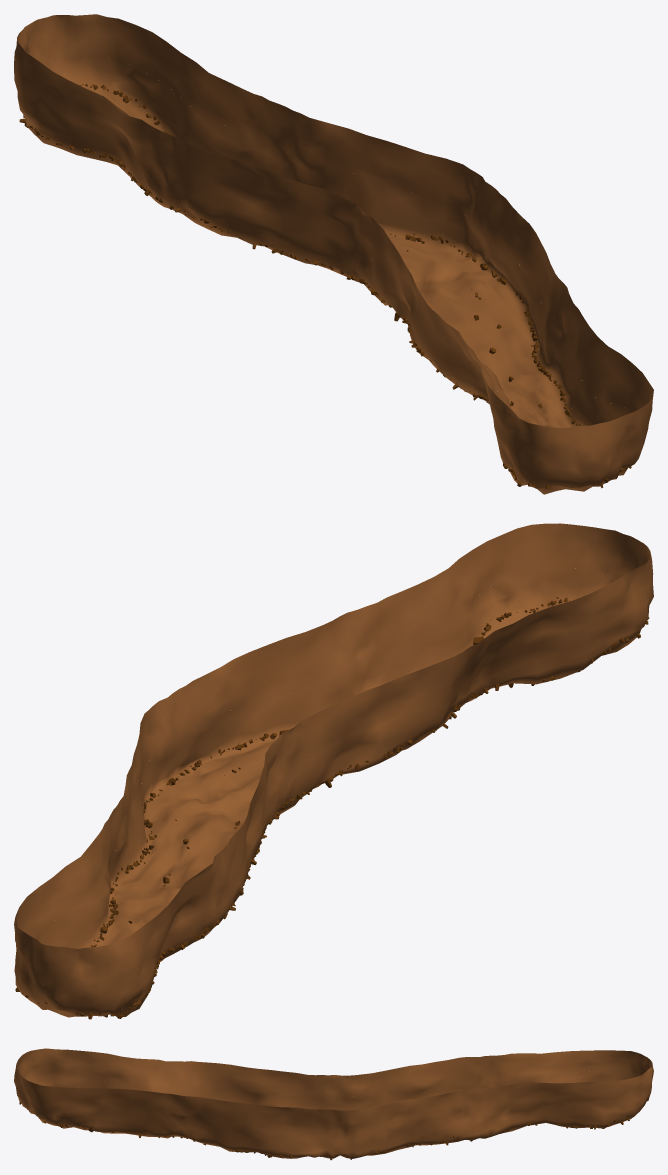
Rendered from cave fixed.fbx.
3 views of the same model, one above another, from view 1: azimuth 30°, elevation 25°; view 2: azimuth 150°, elevation 25°; view 3: azimuth 270°, elevation 25° (orthographic). The views are drawn at different scales.
Parts seen in each view (by area): view 1: Plane.002, Cube.221 - copy.001; view 2: Plane.002, Cube.221 - copy.001; view 3: Plane.002, Cube.221 - copy.001.
Part boxes in pixels (x1,y1,x2,y2): Plane.002: [14, 14, 653, 494]; Cube.221 - copy.001: [19, 83, 631, 489]; Plane.002: [14, 523, 653, 1017]; Cube.221 - copy.001: [15, 597, 649, 1019]; Plane.002: [14, 1048, 653, 1158]; Cube.221 - copy.001: [19, 1101, 637, 1160].
Bounding box in the file's own units: 61.95 × 26.49 × 272.
